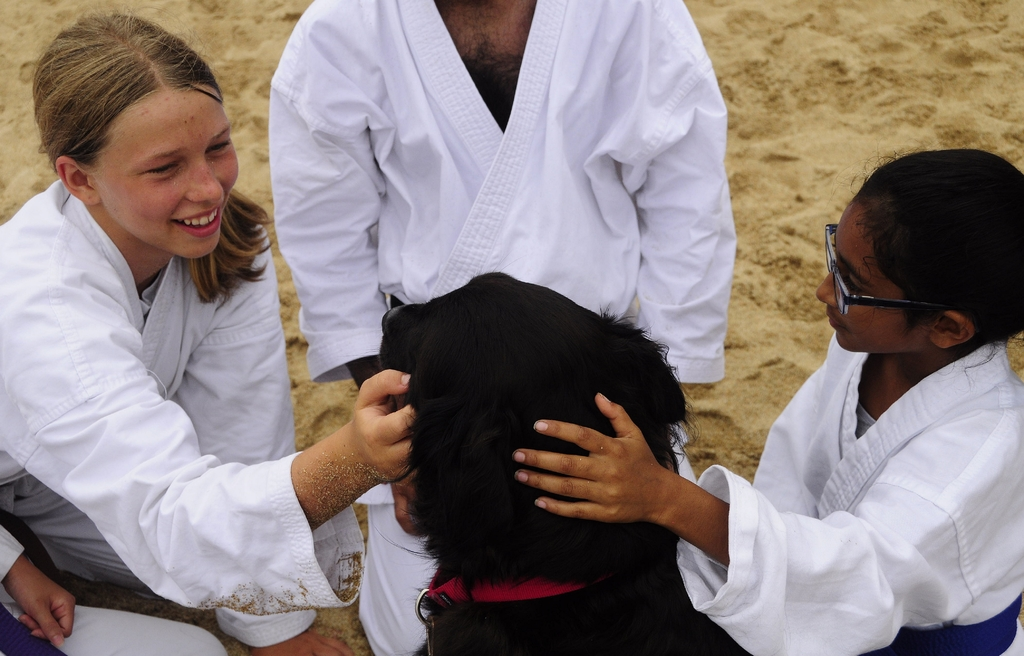Person: (266, 0, 737, 656), (0, 13, 416, 656), (511, 151, 1024, 656), (0, 525, 230, 656)
